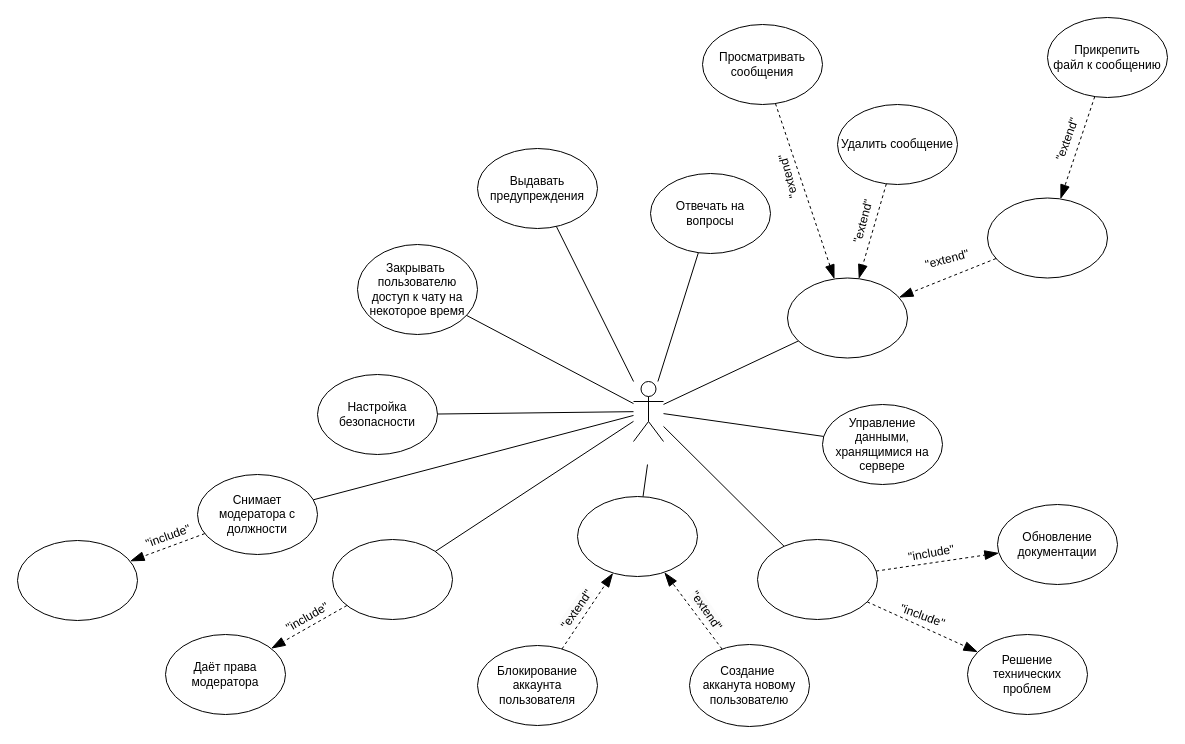
Image size: 1185x744. Some labels were removed from this diagram. Each missing label, with the box of its shape:
Администратор: (632, 380, 664, 442)
Лишает прав модератора: (16, 540, 138, 620)
Назначение модератора на должность: (332, 538, 452, 620)
Отправить сообщение: (986, 197, 1108, 278)
Поддержка пользователей: (756, 538, 878, 620)
Пользоваться чатом: (786, 277, 908, 358)
Управление учётными записями: (576, 496, 698, 576)
